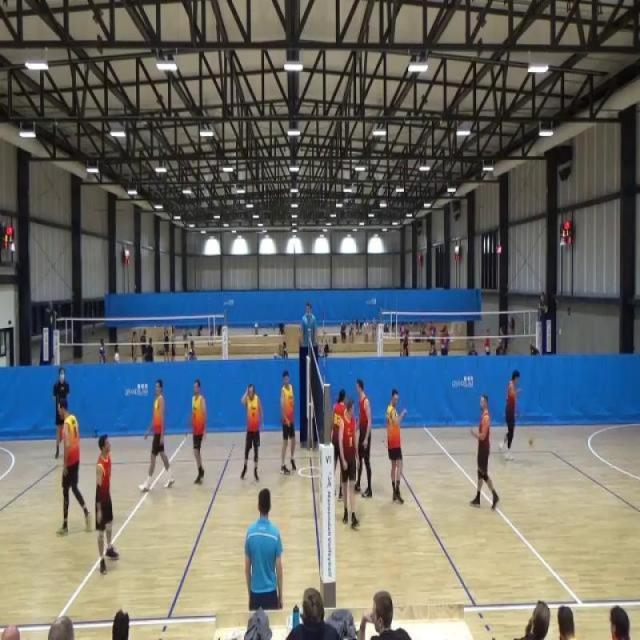volleyball: (528, 434, 534, 448)
